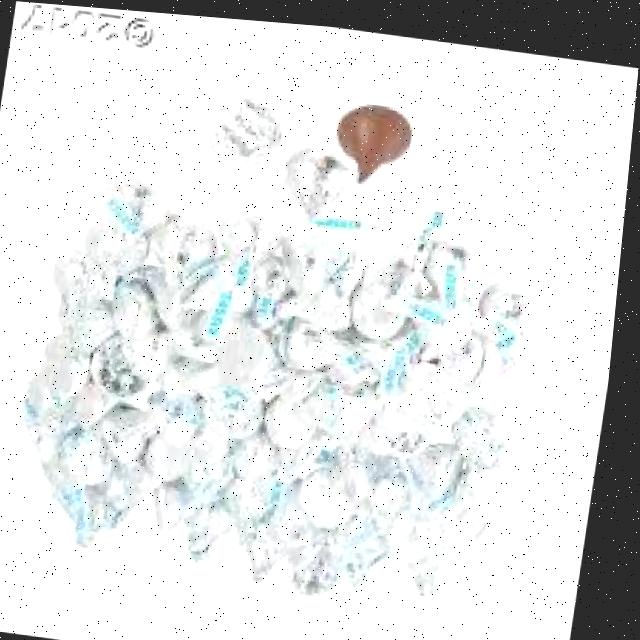kisses: (199, 81, 293, 180), (272, 210, 358, 303), (427, 320, 524, 394), (140, 201, 228, 282), (415, 226, 497, 310), (280, 139, 356, 223), (210, 318, 290, 392), (94, 330, 163, 413), (341, 280, 421, 343), (409, 430, 475, 503), (299, 464, 368, 530), (263, 386, 332, 451), (110, 271, 166, 350), (96, 449, 158, 520), (388, 530, 461, 590), (236, 418, 295, 486), (148, 469, 206, 536)
